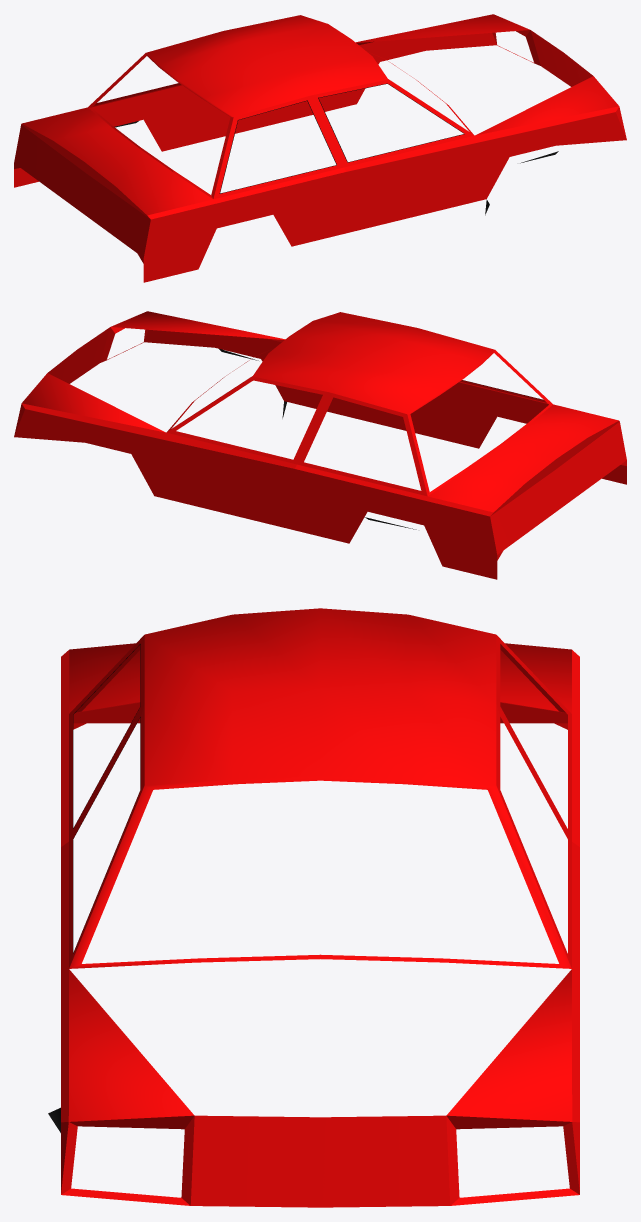
The model's file is P05-car.obj.
3 renders of one model, top to bottom at view 1: azimuth 30°, elevation 25°; view 2: azimuth 150°, elevation 25°; view 3: azimuth 270°, elevation 25°, orthographic. The views are drawn at different scales.
Visible parts, largest first — view 1: Car_Cube; view 2: Car_Cube; view 3: Car_Cube.
Part boxes in pixels (bbox=[...]): Car_Cube: bbox=[14, 14, 626, 282]; Car_Cube: bbox=[14, 311, 626, 579]; Car_Cube: bbox=[48, 608, 579, 1207].
Size of the model in its own units: 4.42 by 1.29 by 2.1.
